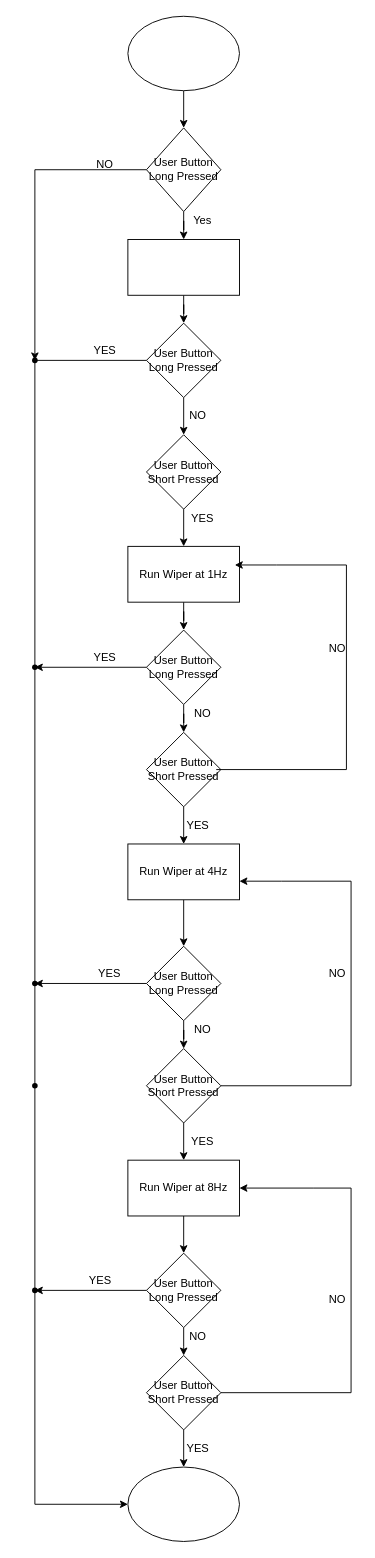
Some shapes in this 375 by 1558 pixel diagram are drawn without their labels. Each missing label, with the centre of its shape:
Start: the point at 183,53
STOP: the point at 183,1503
Turn ON Engine: the point at 183,267
